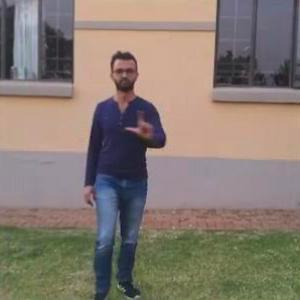land_hand: (125, 102, 157, 141)
